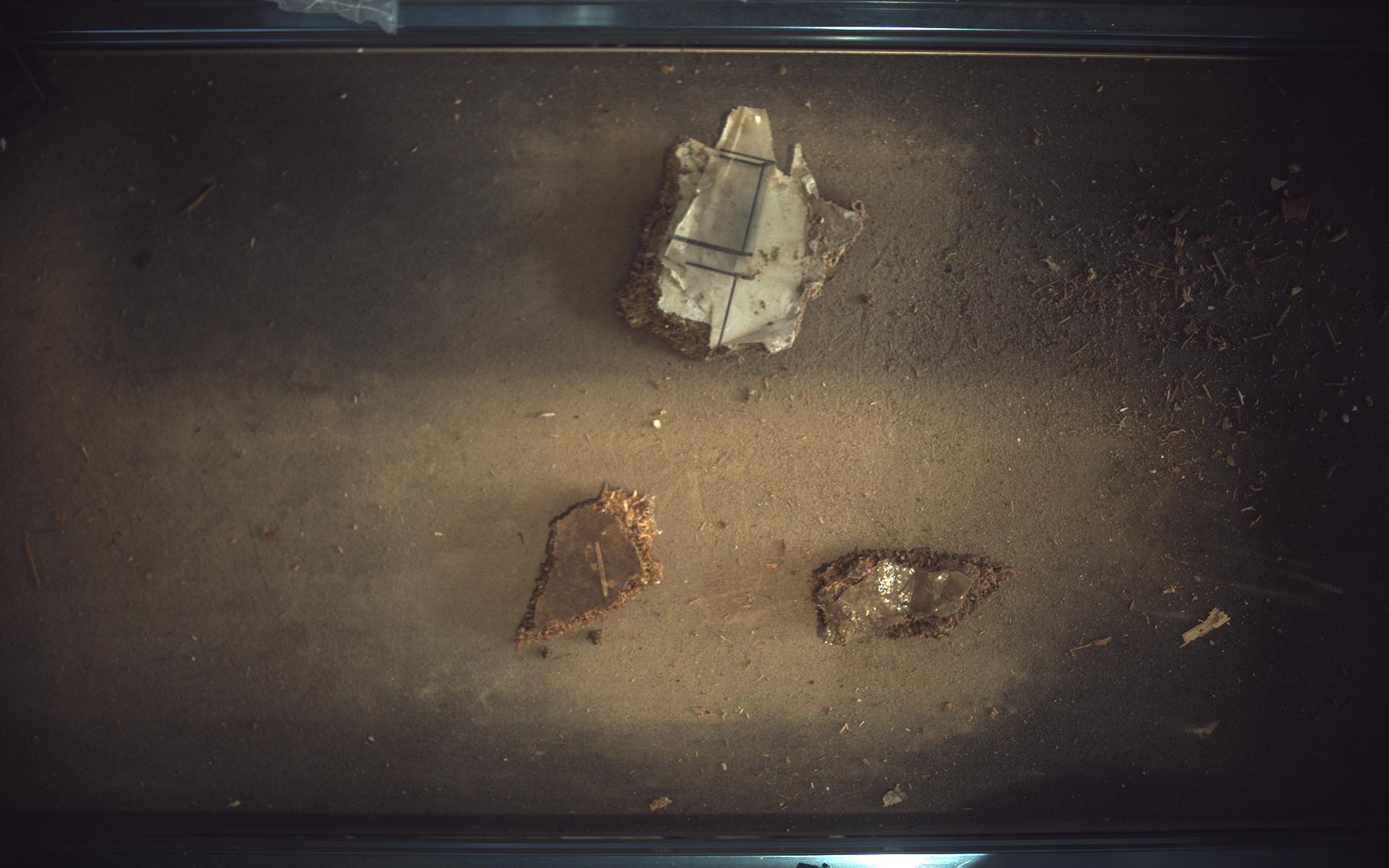wood: (619, 105, 865, 359), (517, 485, 663, 649), (814, 548, 1019, 645)
